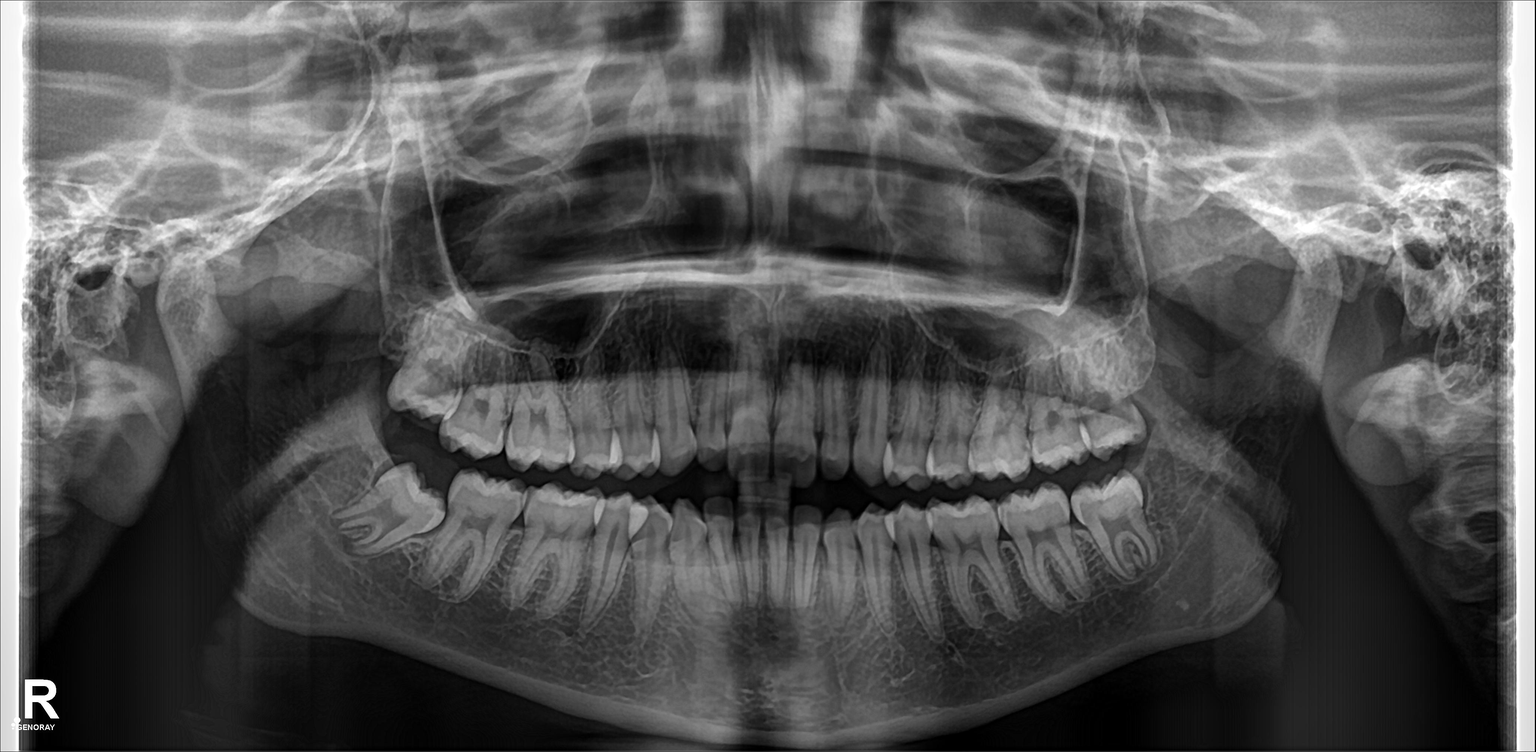Impacted Third Molar: (335, 484, 447, 553)
